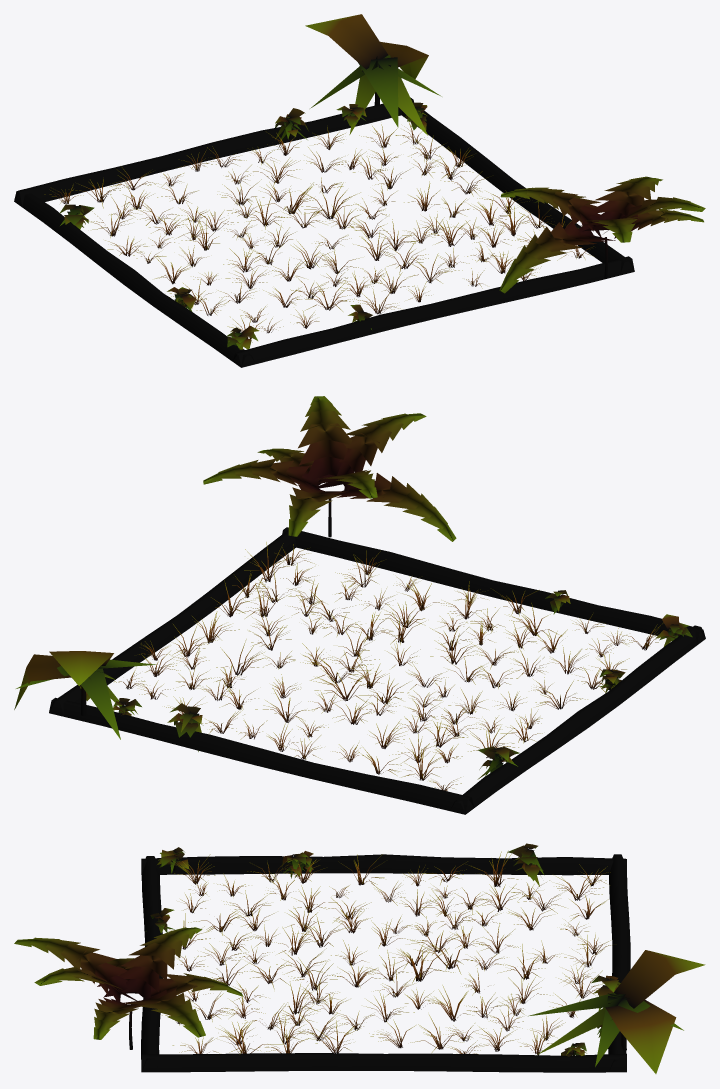
File: patch_paddy_grove.glb
3 renders of one model, top to bottom at view 1: azimuth 30°, elevation 25°; view 2: azimuth 150°, elevation 25°; view 3: azimuth 270°, elevation 25°, orthographic. The views are drawn at different scales.
Parts seen in each view (by area): view 1: patch_paddy_grove; view 2: patch_paddy_grove; view 3: patch_paddy_grove.
Part boxes in pixels (x1,y1,x2,y2): patch_paddy_grove: (14,14,705,367); patch_paddy_grove: (14,396,705,814); patch_paddy_grove: (14,843,705,1073).
Bounding box in the file's own units: 13.77 × 2.99 × 17.11.
Materials: 1 (1 with a texture image).
